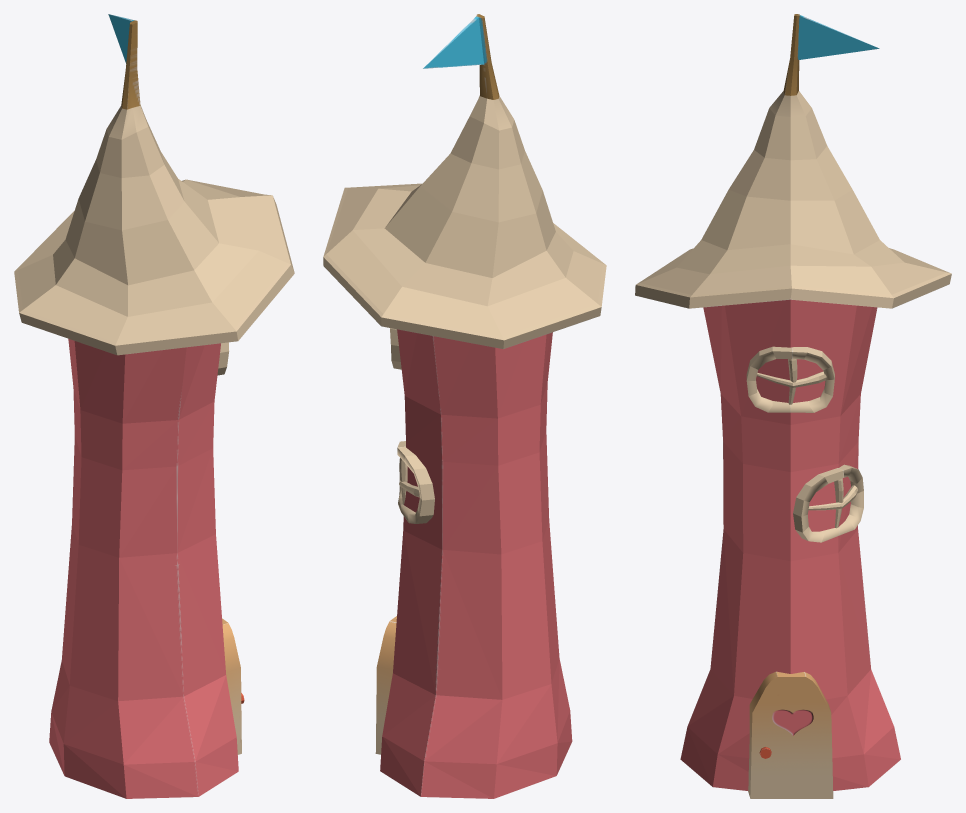
The model's file is house05.fbx.
3 views of the same model, side by side, from view 1: azimuth 30°, elevation 25°; view 2: azimuth 150°, elevation 25°; view 3: azimuth 270°, elevation 25° (orthographic).
Visible parts, largest first — view 1: pCylinder1, hatroof1, pCube14; view 2: pCylinder1, hatroof1, pCube14, pasted__brick39; view 3: pCylinder1, hatroof1, pCube14, pasted__brick29, pasted__brick39.
Boxes of the visible parts, x1=… form: pCylinder1: x1=49, y1=338, x2=238, y2=798; hatroof1: x1=14, y1=14, x2=294, y2=355; pCube14: x1=222, y1=618, x2=241, y2=754; pCylinder1: x1=380, y1=329, x2=572, y2=798; hatroof1: x1=323, y1=14, x2=606, y2=348; pCube14: x1=375, y1=616, x2=396, y2=754; pasted__brick39: x1=397, y1=441, x2=434, y2=523; pCylinder1: x1=680, y1=299, x2=900, y2=790; hatroof1: x1=635, y1=14, x2=951, y2=308; pCube14: x1=748, y1=671, x2=833, y2=798; pasted__brick29: x1=746, y1=346, x2=834, y2=412; pasted__brick39: x1=793, y1=464, x2=863, y2=542.
Bounding box in the file's own units: 21.84 × 59.8 × 23.12.
2 materials, 2 textured.
